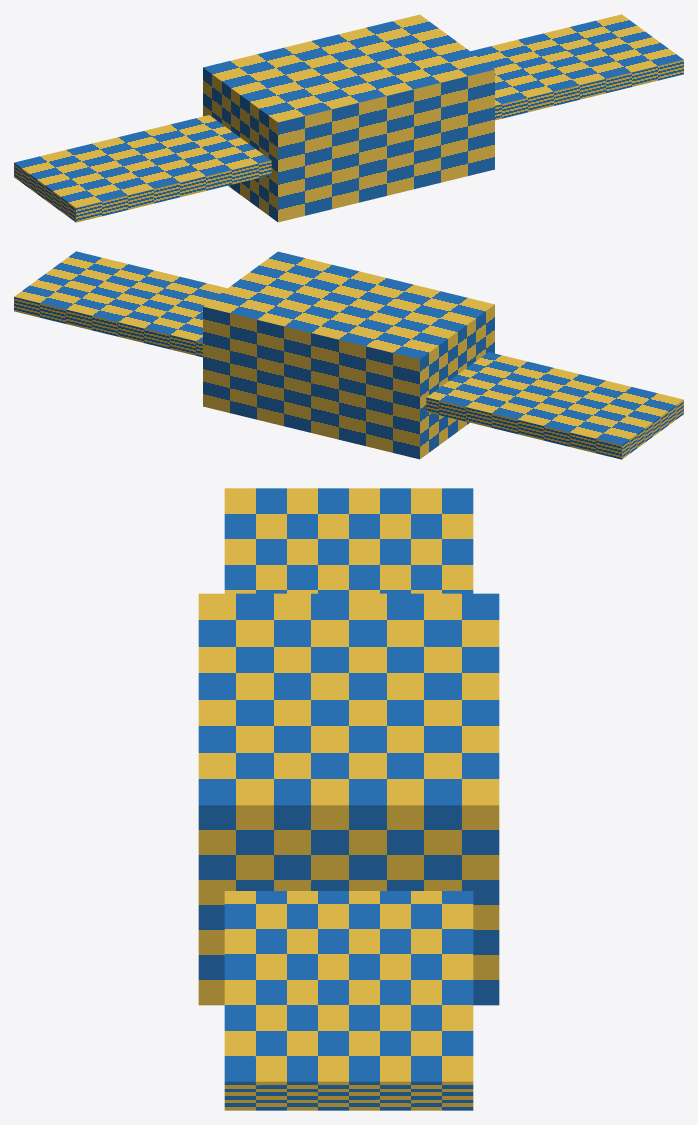
Rendered from survey-drone.gltf.
The picture shows the model from 3 angles, top to bottom: view 1: azimuth 30°, elevation 25°; view 2: azimuth 150°, elevation 25°; view 3: azimuth 270°, elevation 25°; orthographic projection. The views are drawn at different scales.
Parts seen in each view (by area): view 1: Textured survey drone; view 2: Textured survey drone; view 3: Textured survey drone.
Boxes of the visible parts, left/top/right/bottom form: Textured survey drone: left=14, top=14, right=683, bottom=222; Textured survey drone: left=14, top=251, right=683, bottom=459; Textured survey drone: left=198, top=488, right=499, bottom=1110.
Bounding box in the file's own units: 3.5 × 0.55 × 0.75.
1 material, 1 textured.
